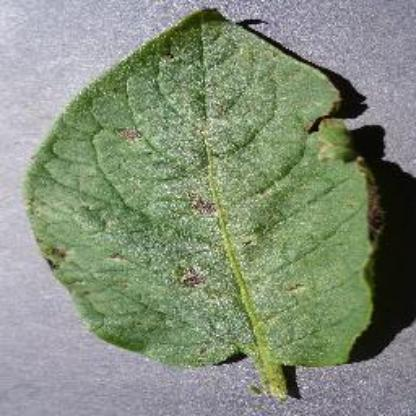Early-Blight: (26, 0, 408, 402)
